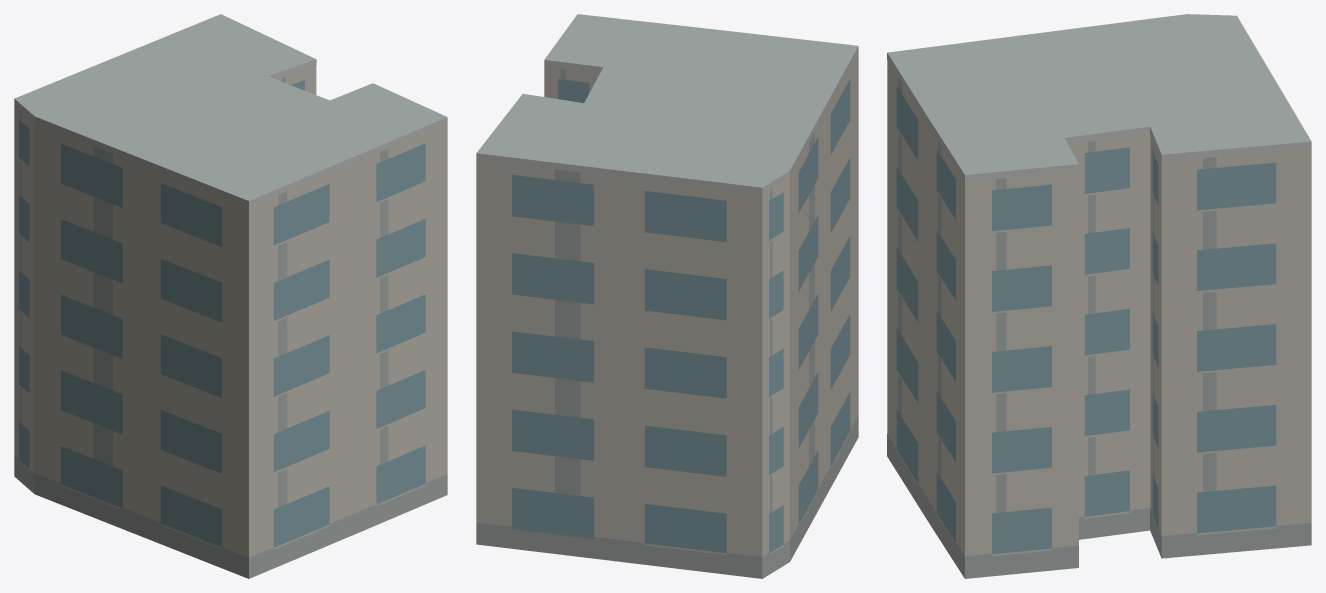
The model's file is survey-upis-32651095.glb.
3 renders of one model, left to right at view 1: azimuth 30°, elevation 25°; view 2: azimuth 150°, elevation 25°; view 3: azimuth 270°, elevation 25°, orthographic. The views are drawn at different scales.
Parts seen in each view (by area): view 1: survey-upis-32651095.tmp; view 2: survey-upis-32651095.tmp; view 3: survey-upis-32651095.tmp.
Boxes of the visible parts, x1,y1,x2,y2 form: survey-upis-32651095.tmp: (14,14,447,578); survey-upis-32651095.tmp: (476,14,858,578); survey-upis-32651095.tmp: (887,14,1311,578).
Bounding box in the file's own units: 11.93 × 13.93 × 13.28.
